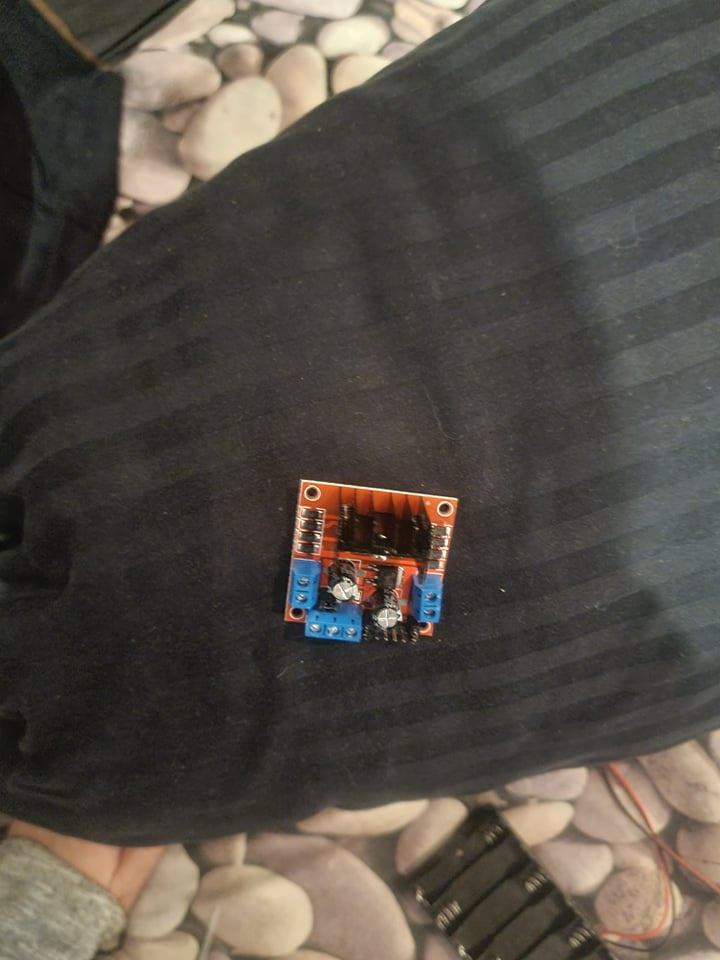MOTOR: (281, 476, 459, 648)
